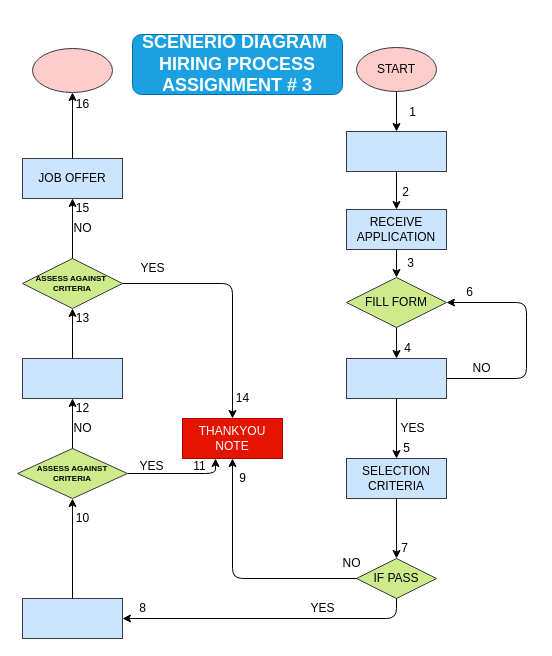
The diagram is 552 pixels wide and 656 high, and some of its shapes have lost their labels. Here are the shapes that lost their labels. From the top down, the centre of each, then its label:
the point at 72,70: END
the point at 396,151: ADVERTISEMENT
the point at 72,378: 2nd INTERVIEW
the point at 396,378: BIODATA
the point at 72,618: CALL FOR INTERVIEW
